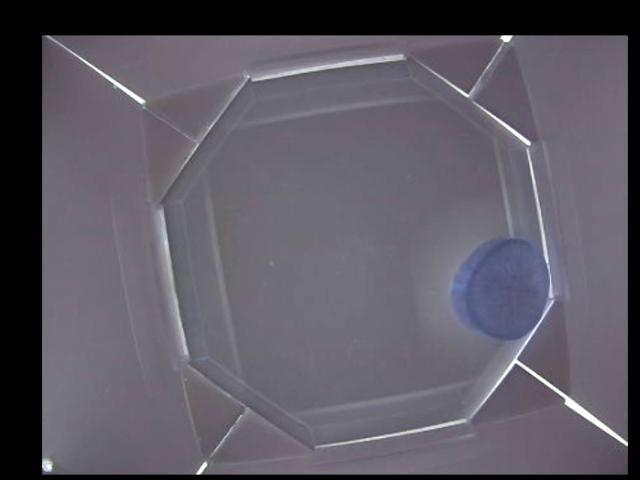Mooli: (451, 239, 554, 340)
